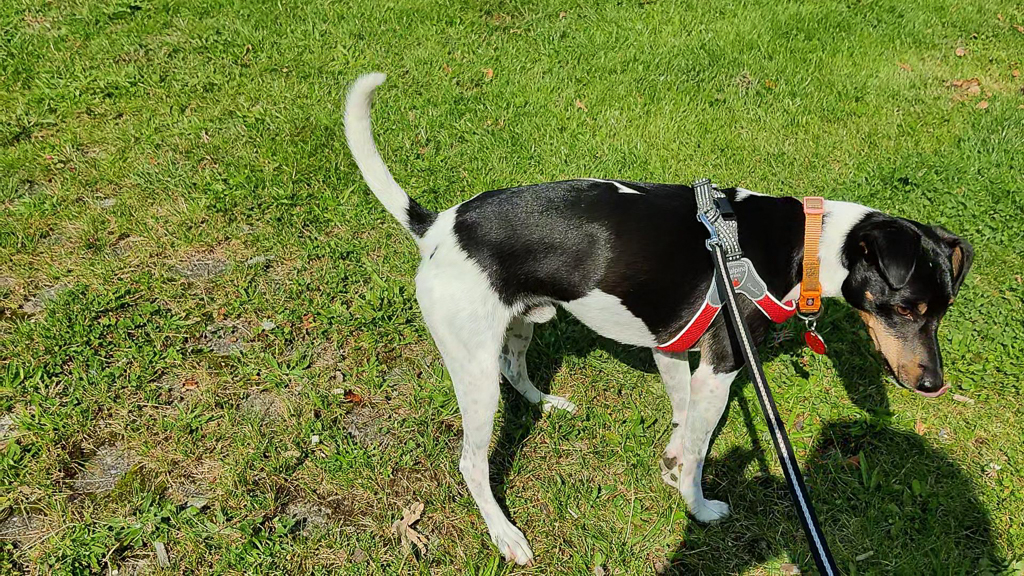Dog: (334, 67, 982, 568)
